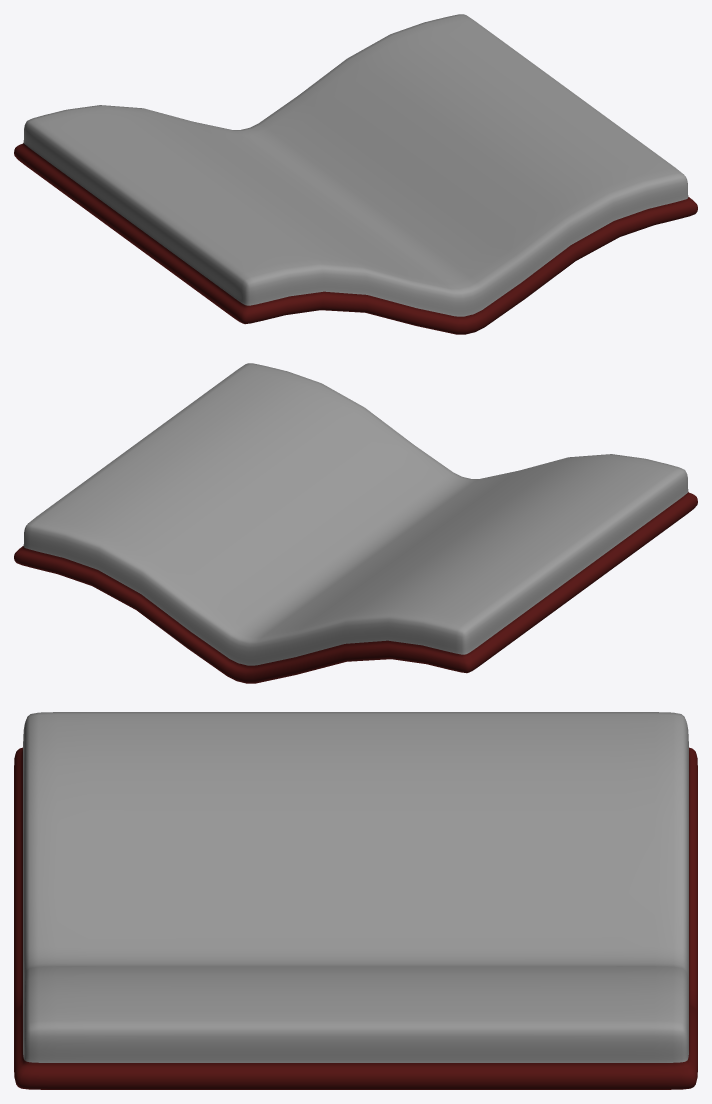
The model's file is ChurchBookOpenV2.obj.
The picture shows the model from 3 angles, top to bottom: view 1: azimuth 30°, elevation 25°; view 2: azimuth 150°, elevation 25°; view 3: azimuth 270°, elevation 25°; orthographic projection. The views are drawn at different scales.
Parts seen in each view (by area): view 1: ChurchBookOpenV2; view 2: ChurchBookOpenV2; view 3: ChurchBookOpenV2.
Part boxes in pixels (bbox=[...]): ChurchBookOpenV2: bbox=[14, 14, 697, 334]; ChurchBookOpenV2: bbox=[14, 363, 697, 683]; ChurchBookOpenV2: bbox=[14, 712, 697, 1089].
Size of the model in its own units: 2.28 by 0.5133 by 2.
1 material, 1 textured.
